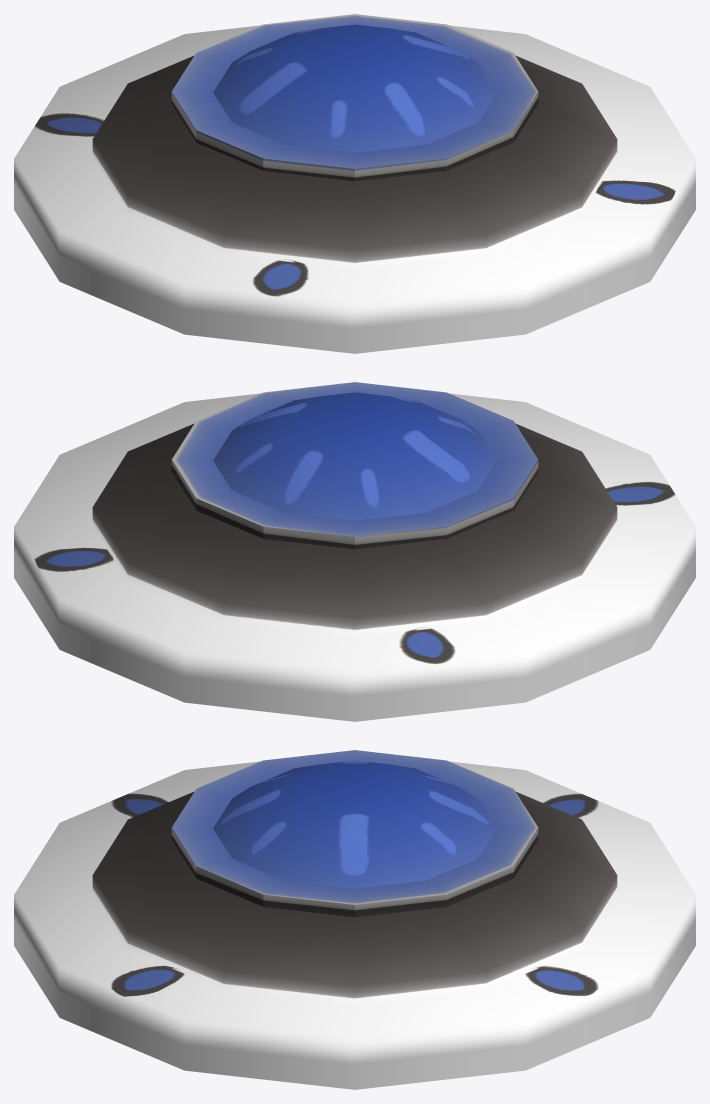
File: Mine.fbx
3 renders of one model, top to bottom at view 1: azimuth 30°, elevation 25°; view 2: azimuth 150°, elevation 25°; view 3: azimuth 270°, elevation 25°, orthographic.
Parts seen in each view (by area): view 1: Sphere001; view 2: Sphere001; view 3: Sphere001.
Boxes of the visible parts, x1=… form: Sphere001: x1=14, y1=14, x2=695, y2=353; Sphere001: x1=14, y1=382, x2=695, y2=721; Sphere001: x1=14, y1=750, x2=695, y2=1089.
Bounding box in the file's own units: 28.29 × 7.51 × 28.29.
Materials: 1 (1 with a texture image).
